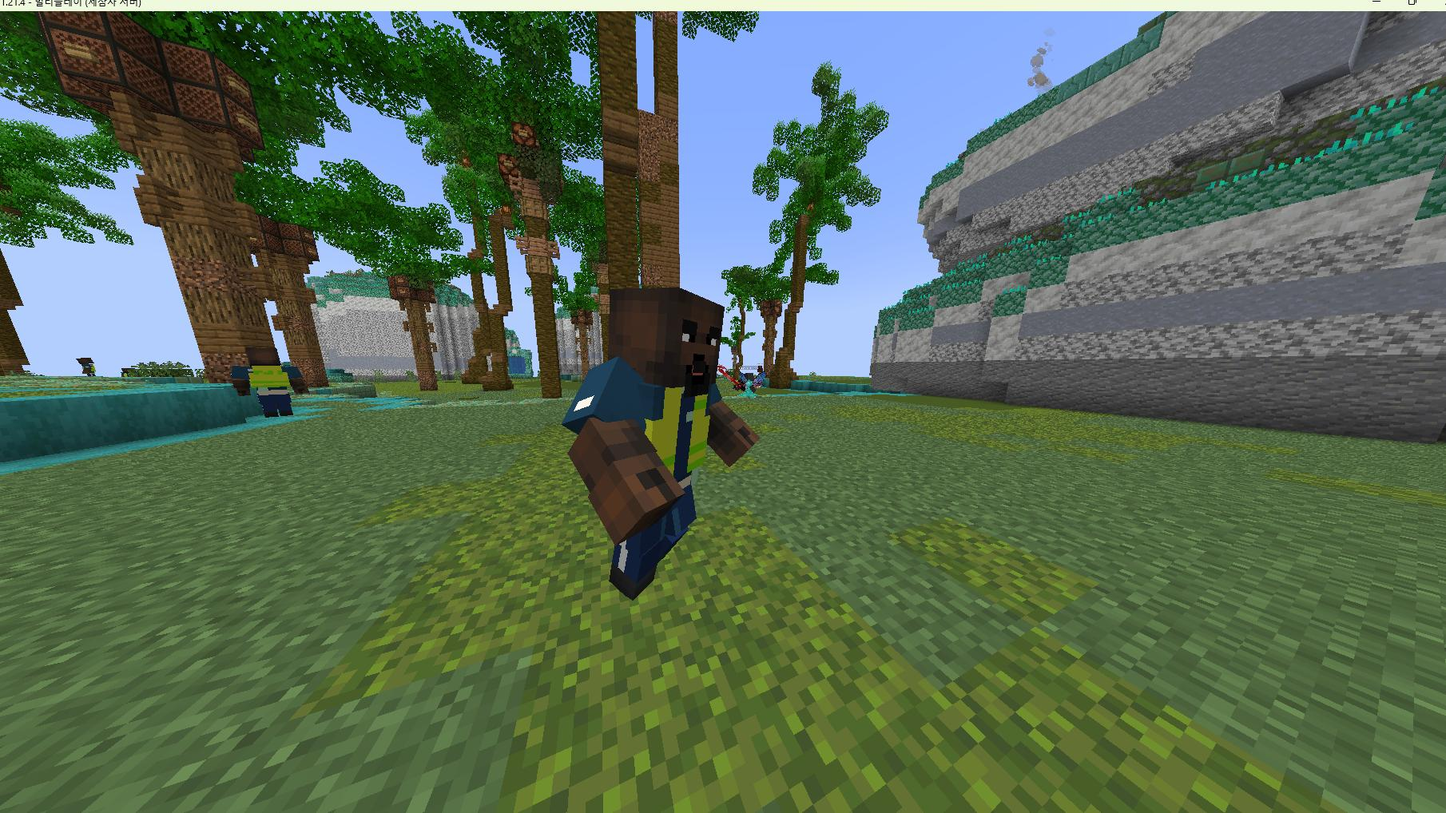Guardian: (564, 287, 758, 598)
